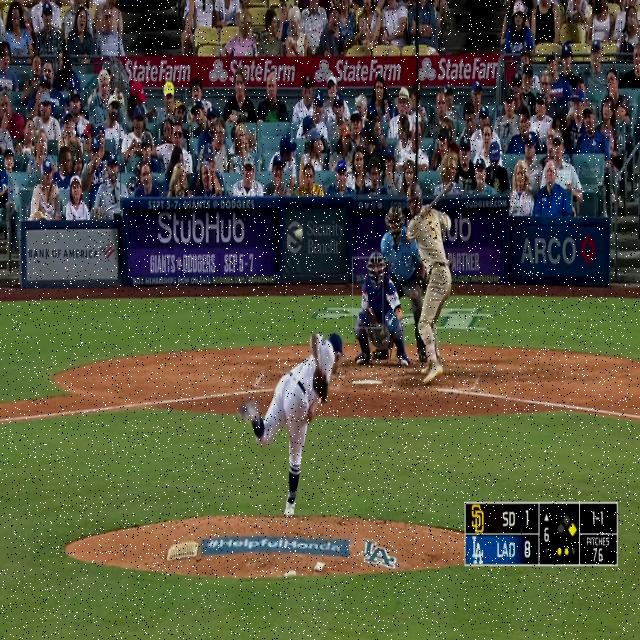baseball: (295, 228, 303, 239)
